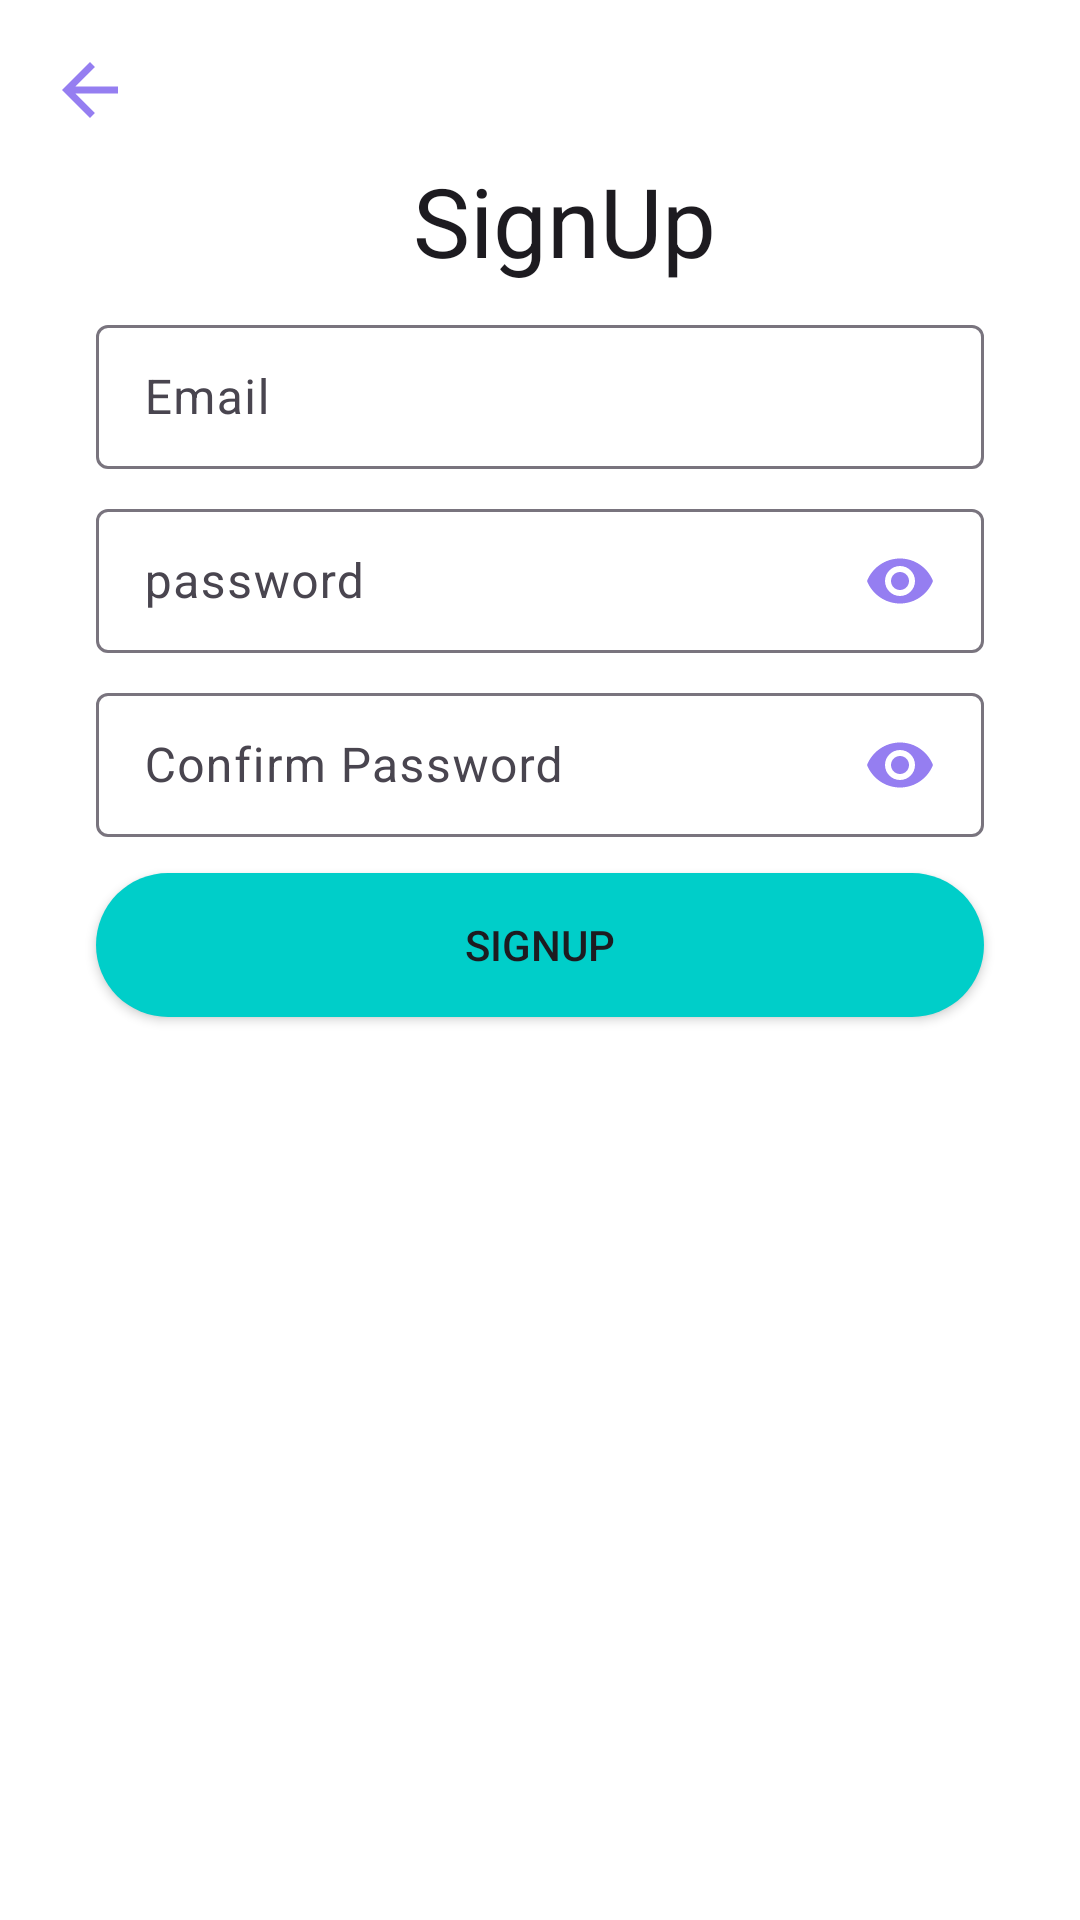

Where to tap for icons on this 1080px x 1920px app screen, as [x,y]:
back arrow: [90,90]
